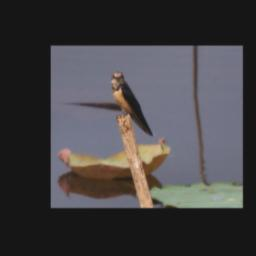Swallow: (110, 71, 154, 139)
